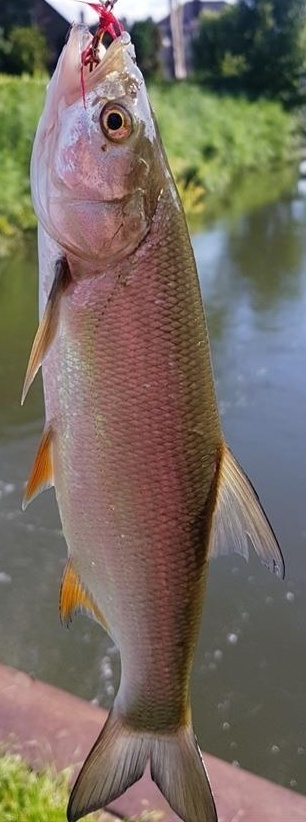Aspius aspius: (20, 20, 286, 822)
